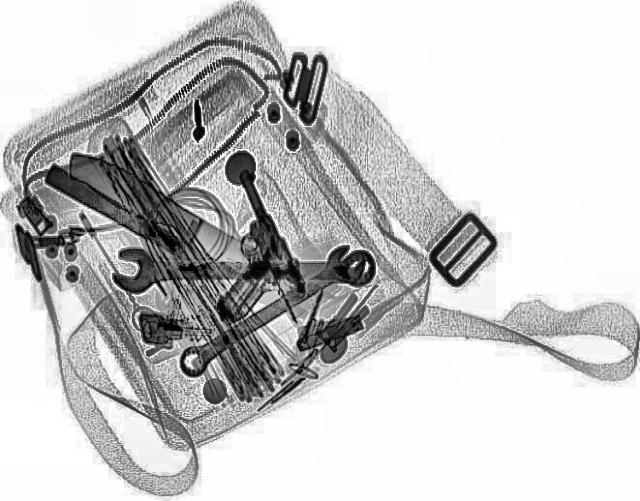Gun: (152, 168, 318, 322)
Knife: (48, 145, 350, 313)
Wrench: (162, 240, 378, 382), (110, 245, 374, 292)
